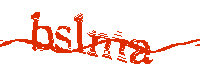a: (130, 37, 154, 66)
b: (31, 8, 52, 54)
l: (74, 12, 87, 55)
m: (87, 29, 128, 64)
s: (52, 21, 74, 57)
